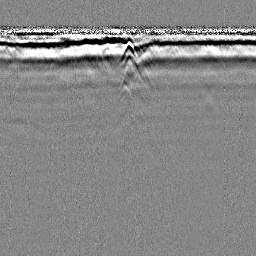cavity: (116, 39, 141, 65)
